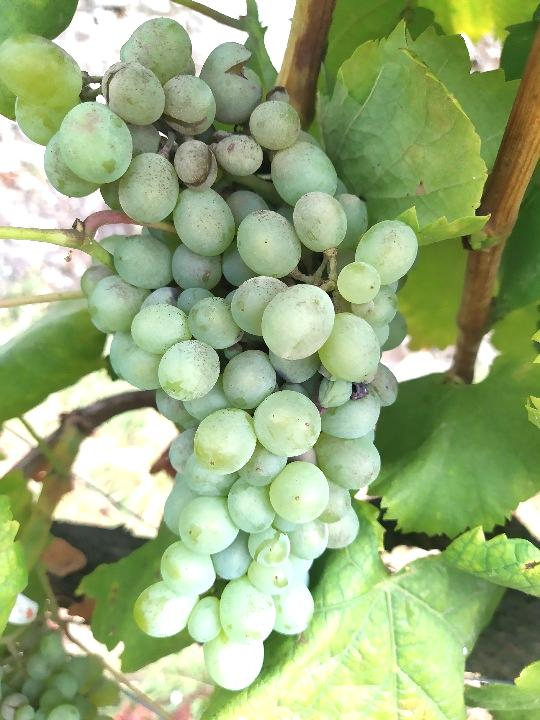grape: (41, 15, 422, 693)
